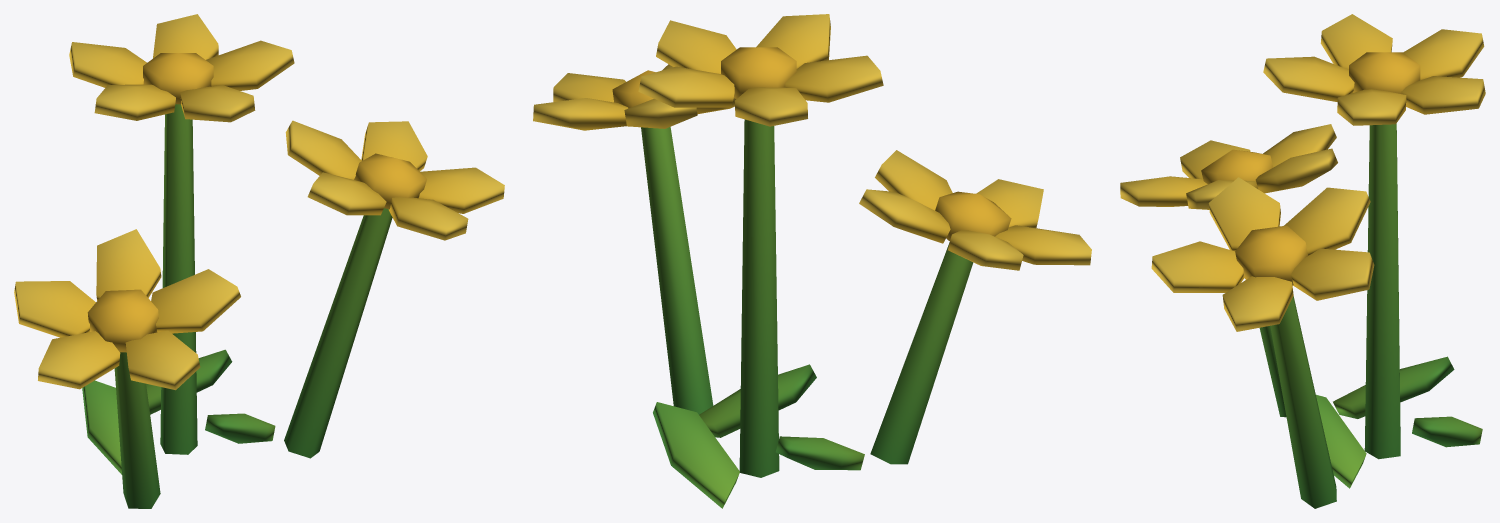
File: plant-flower-yellow.glb
3 views of the same model, side by side, from view 1: azimuth 30°, elevation 25°; view 2: azimuth 150°, elevation 25°; view 3: azimuth 270°, elevation 25° (orthographic). The views are drawn at different scales.
Visible parts, largest first — view 1: plant.flower.yellow; view 2: plant.flower.yellow; view 3: plant.flower.yellow.
Part boxes in pixels (x1=…): plant.flower.yellow: x1=14, y1=14, x2=504, y2=508; plant.flower.yellow: x1=533, y1=14, x2=1091, y2=508; plant.flower.yellow: x1=1120, y1=14, x2=1485, y2=508.
Bounding box in the file's own units: 0.7865 × 0.6281 × 0.5151.
